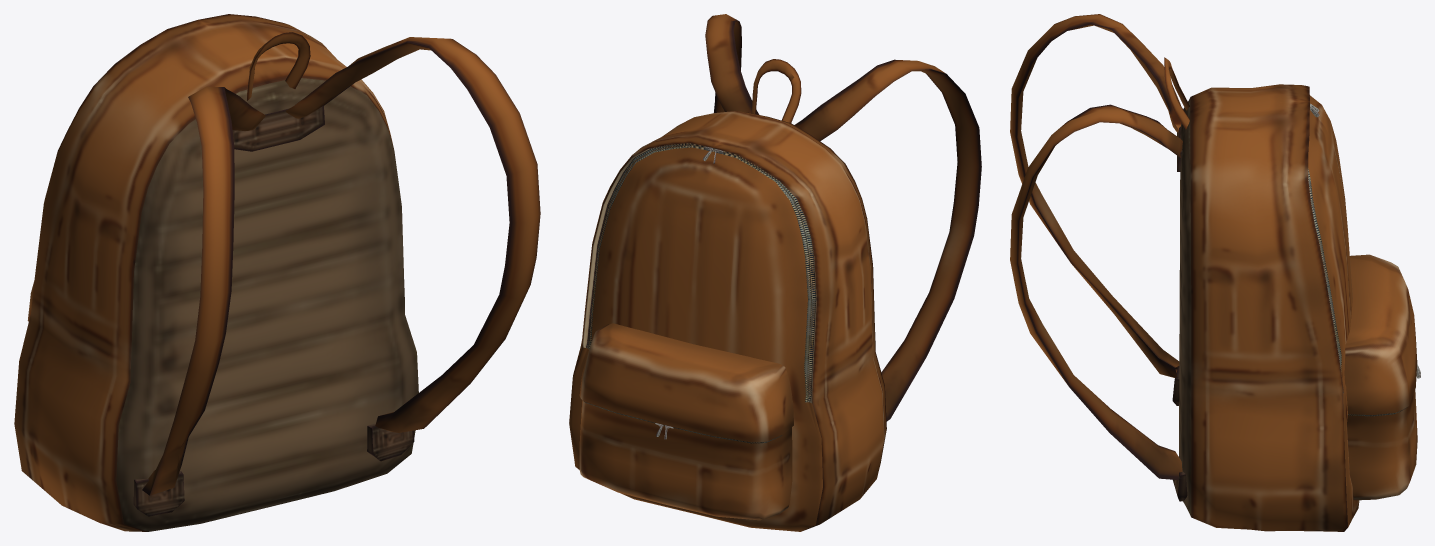
File: backpack.fbx
3 views of the same model, side by side, from view 1: azimuth 30°, elevation 25°; view 2: azimuth 150°, elevation 25°; view 3: azimuth 270°, elevation 25° (orthographic). The views are drawn at different scales.
Parts seen in each view (by area): view 1: backpack; view 2: backpack; view 3: backpack.
Part boxes in pixels (x1,y1,x2,y2): backpack: (14, 14, 540, 531); backpack: (569, 14, 981, 531); backpack: (1010, 14, 1420, 531).
Size of the model in its own units: 36.05 by 50.02 by 44.13.
1 material, 1 textured.
